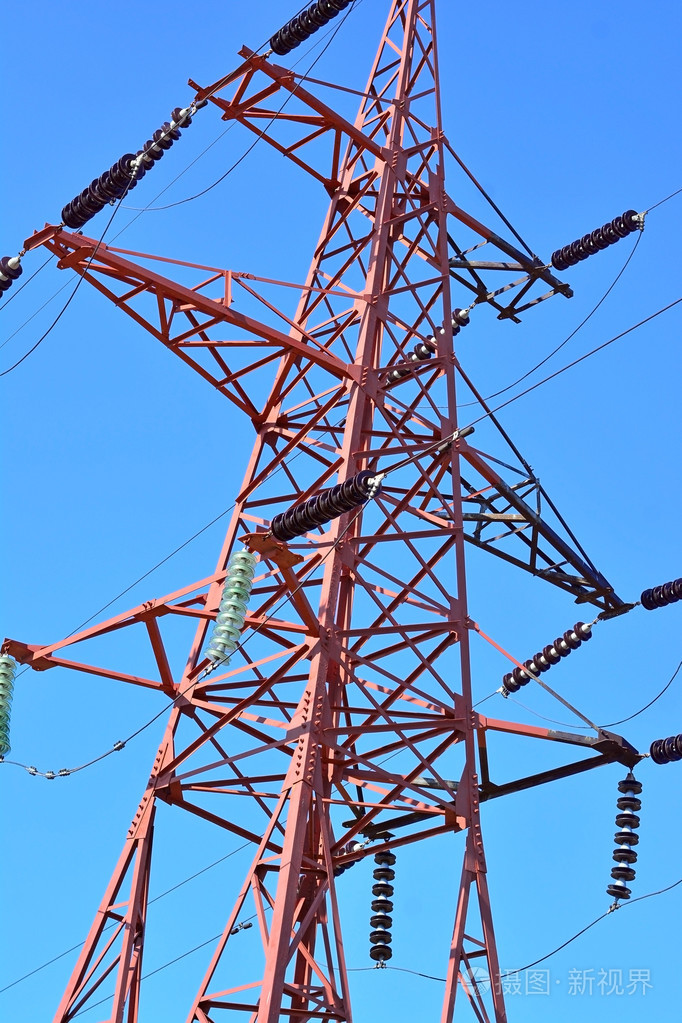insulator: (266, 476, 378, 544), (206, 550, 255, 670), (503, 624, 583, 696), (60, 151, 135, 222), (606, 776, 646, 906), (396, 308, 469, 376), (556, 211, 639, 267), (271, 1, 345, 59), (135, 106, 190, 176), (367, 849, 398, 963), (1, 657, 16, 772), (635, 580, 682, 613), (648, 736, 681, 763)
